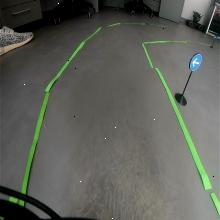left: (189, 52, 203, 71)
